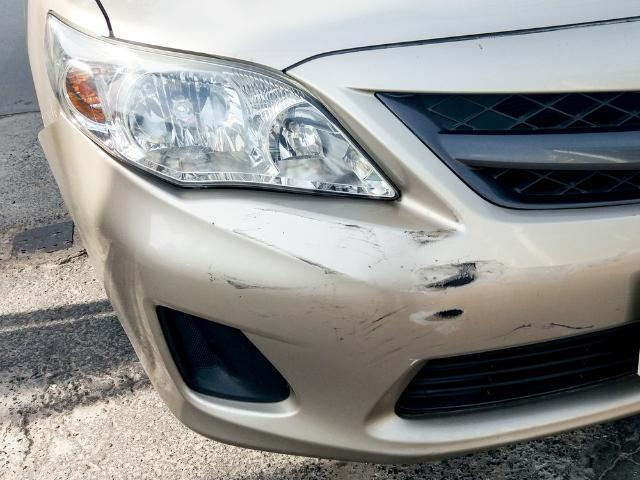scratch: (204, 204, 511, 357), (496, 318, 598, 338)
